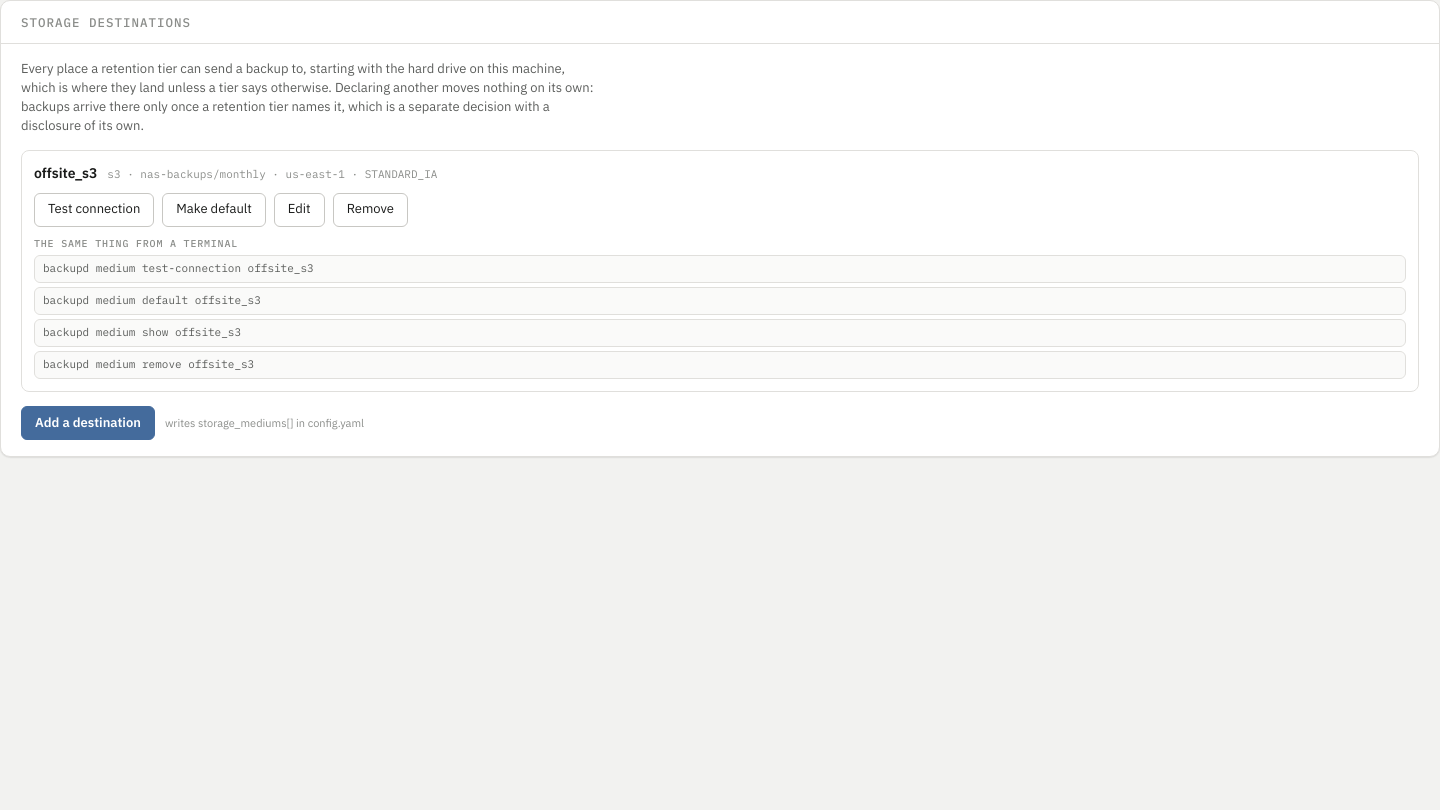
re-testing a destination backups already live on (FR-30) › renders the removal refusal with what is on the destination behind it
This screenshot has width=1440, height=810.
Step 1. Click the button "Remove" → click(370, 210), box left=333, top=193, right=408, bottom=227
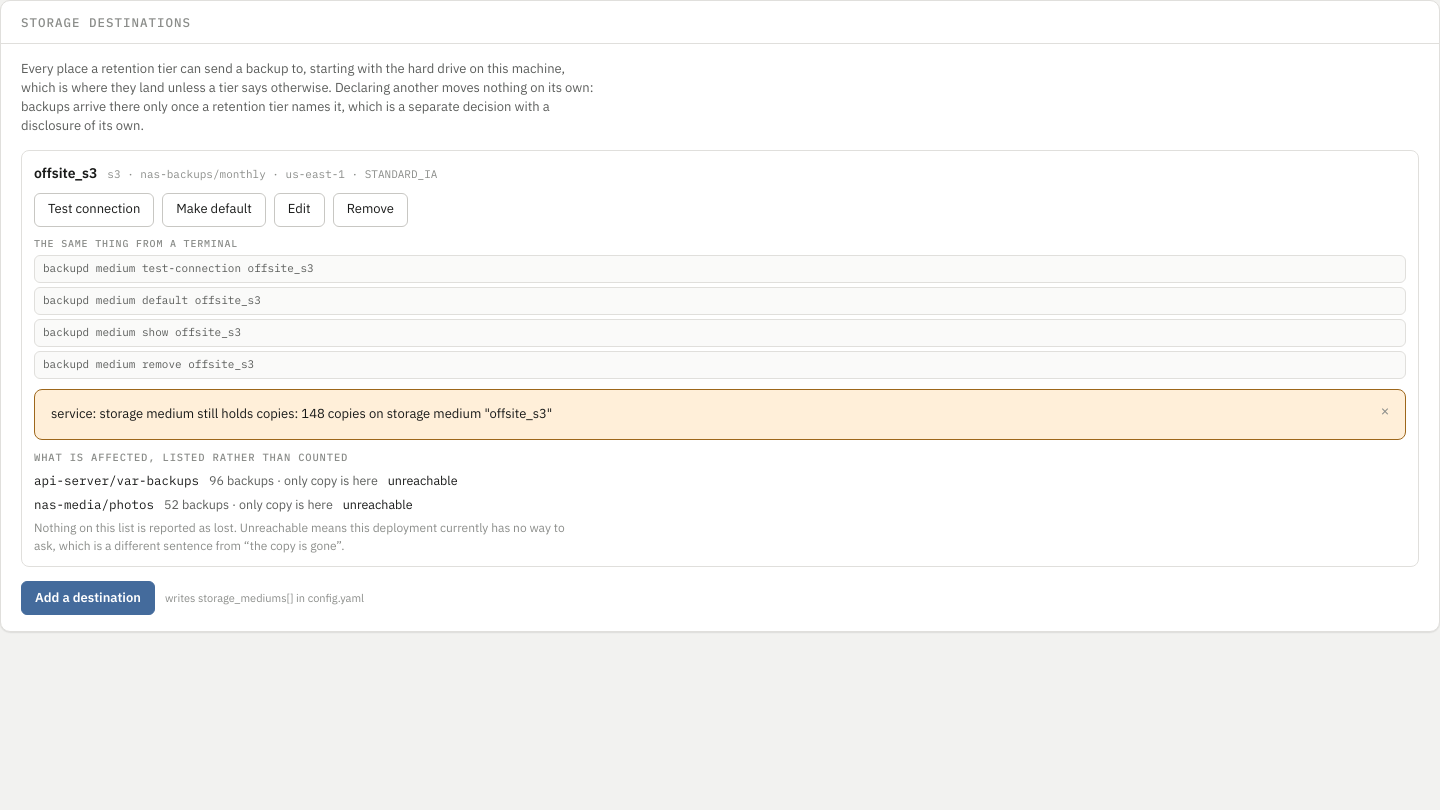
Result: the text "still holds copies" is shown at left=51, top=405, right=552, bottom=422
Result: the text "api-server/var-backups" is shown at left=34, top=471, right=199, bottom=489
Result: the text "only copy is here" is shown at left=274, top=472, right=378, bottom=488
